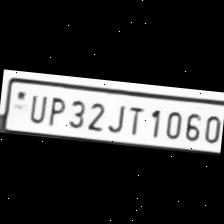0: (160, 106, 184, 139), (200, 111, 222, 142)
1: (144, 104, 163, 138)
2: (84, 96, 107, 132)
3: (65, 94, 87, 128)
6: (180, 108, 202, 141)
J: (104, 98, 127, 134)
P: (43, 92, 66, 126)
T: (124, 101, 146, 135)
U: (25, 89, 48, 123)
